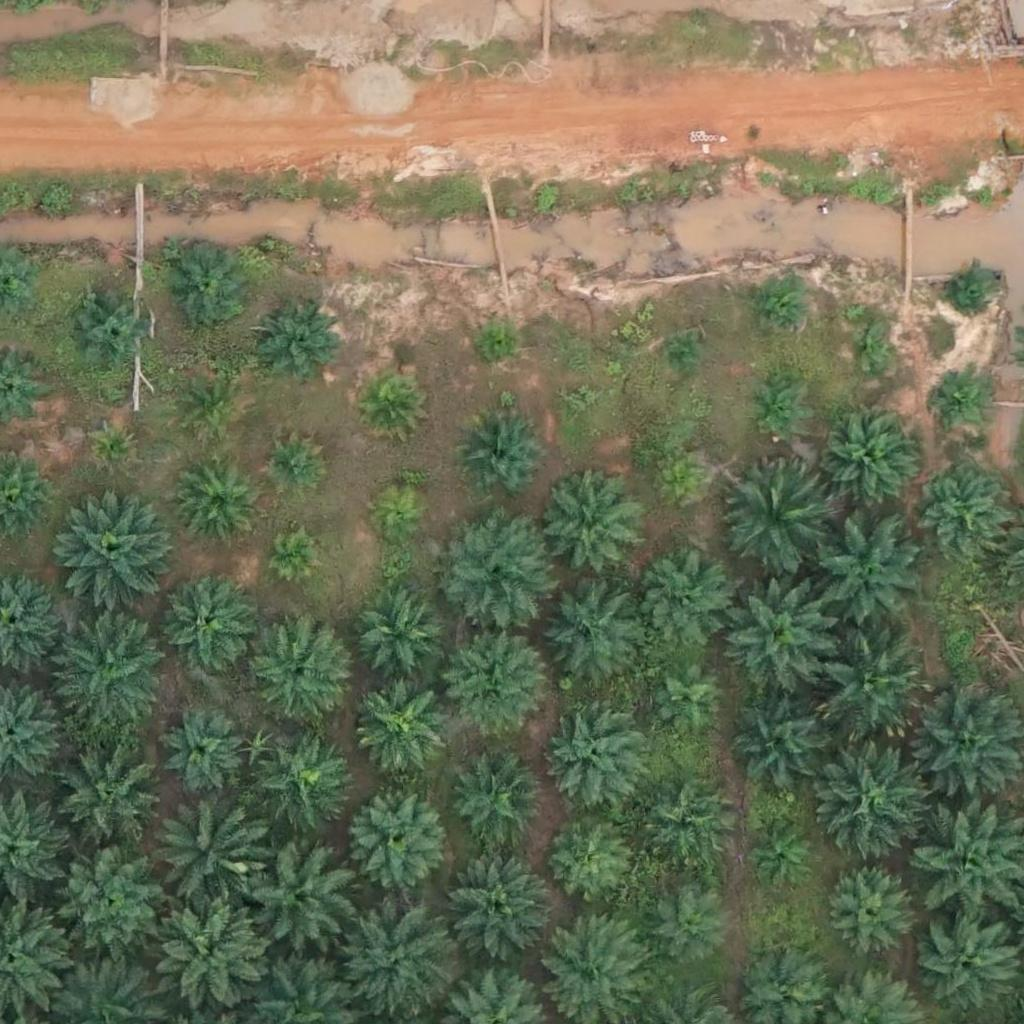Kelapa_Sawit: (57, 489, 170, 603), (807, 517, 920, 630), (820, 750, 933, 863), (716, 457, 829, 570), (721, 589, 834, 702), (239, 843, 352, 956), (909, 683, 1021, 797), (437, 512, 549, 626), (818, 634, 930, 747), (344, 892, 456, 1005), (49, 844, 161, 957), (57, 623, 169, 736), (917, 909, 1017, 1010), (727, 696, 827, 797), (544, 480, 644, 581), (445, 854, 545, 955), (442, 637, 542, 738), (348, 786, 448, 887), (157, 806, 257, 907), (157, 902, 257, 1003), (823, 409, 923, 509), (636, 775, 736, 875), (638, 550, 738, 650), (545, 587, 645, 687), (538, 707, 638, 807), (349, 675, 449, 775), (250, 732, 350, 832), (246, 624, 346, 724), (157, 572, 257, 672), (54, 740, 154, 840), (457, 409, 545, 497), (827, 868, 915, 956), (450, 756, 538, 844), (355, 590, 443, 678), (63, 286, 151, 374), (158, 709, 246, 797), (919, 459, 1006, 547), (547, 818, 634, 906), (645, 878, 732, 966), (164, 242, 251, 330), (173, 457, 260, 545), (260, 310, 335, 386), (650, 657, 725, 732), (750, 823, 813, 886), (360, 370, 423, 433), (183, 376, 245, 439), (370, 489, 420, 540), (935, 372, 985, 423), (942, 262, 992, 312), (845, 325, 895, 375), (753, 279, 803, 329), (748, 382, 798, 432), (272, 532, 322, 582), (267, 440, 317, 490), (662, 340, 700, 378), (476, 324, 513, 362), (652, 459, 689, 496), (91, 425, 128, 462), (565, 387, 590, 413)
